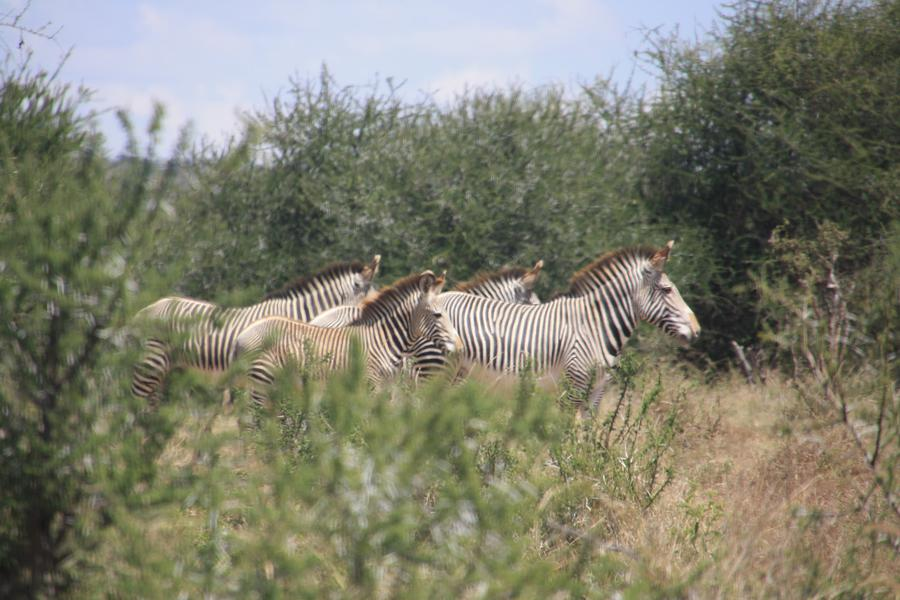zebra_grevys: (457, 284, 595, 378)
